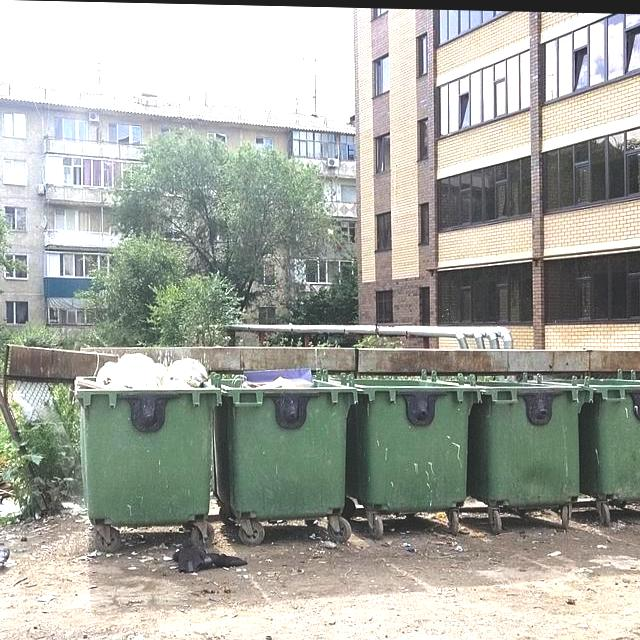Trash_Can_Empty: (333, 373, 480, 514), (448, 372, 593, 505), (551, 372, 640, 498)
Trash_Can_Full: (75, 352, 219, 526), (207, 366, 358, 519)
